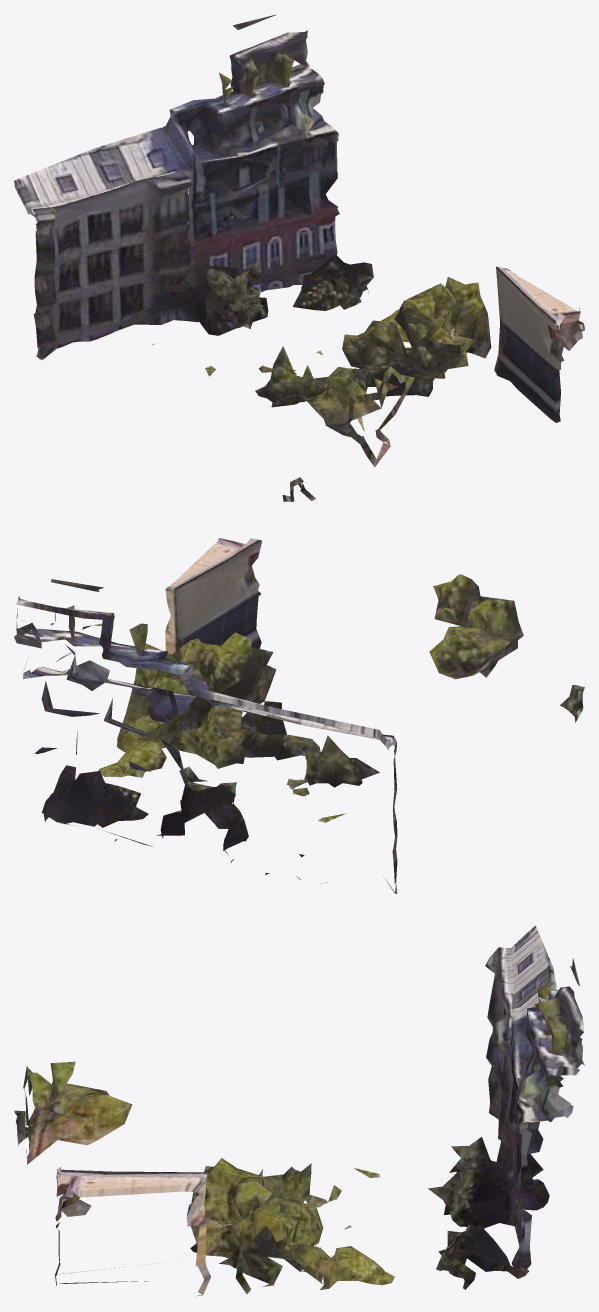
The picture shows the model from 3 angles, top to bottom: view 1: azimuth 30°, elevation 25°; view 2: azimuth 150°, elevation 25°; view 3: azimuth 270°, elevation 25°; orthographic projection. The views are drawn at different scales.
Visible parts, largest first — view 1: Mesh_0; view 2: Mesh_0; view 3: Mesh_0.
Part boxes in pixels (box(x1,y1,x2,y2)): Mesh_0: box(14, 14, 584, 501); Mesh_0: box(14, 538, 584, 893); Mesh_0: box(14, 925, 584, 1296).
Size of the model in its own units: 33.29 by 22.92 by 41.54.
1 material, 1 textured.
